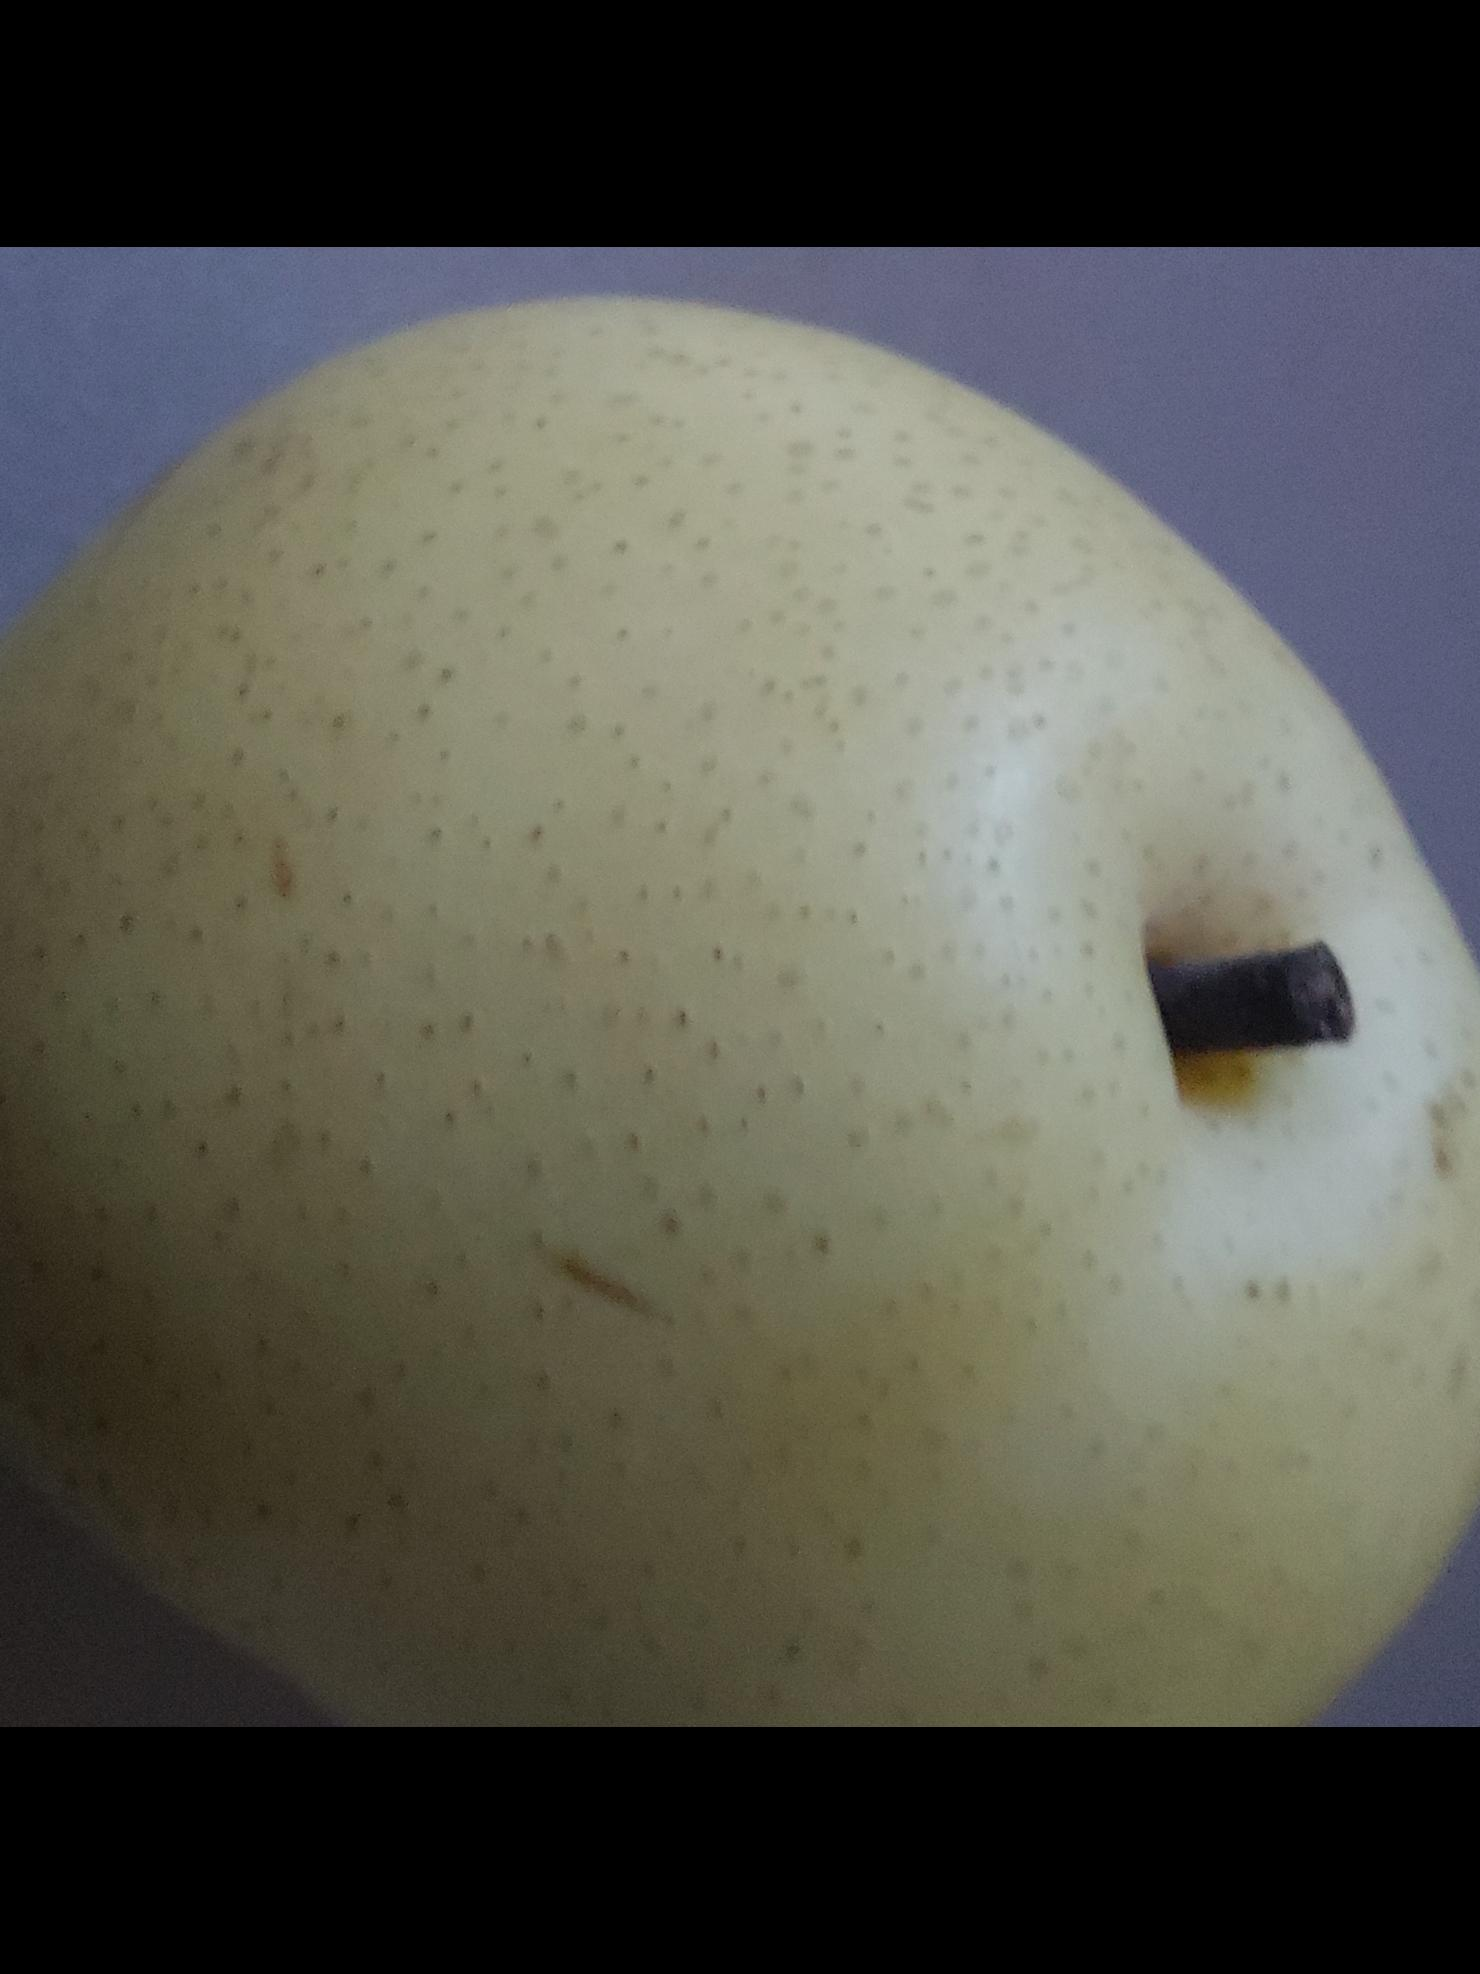Good Pear: (0, 291, 1480, 1727)
